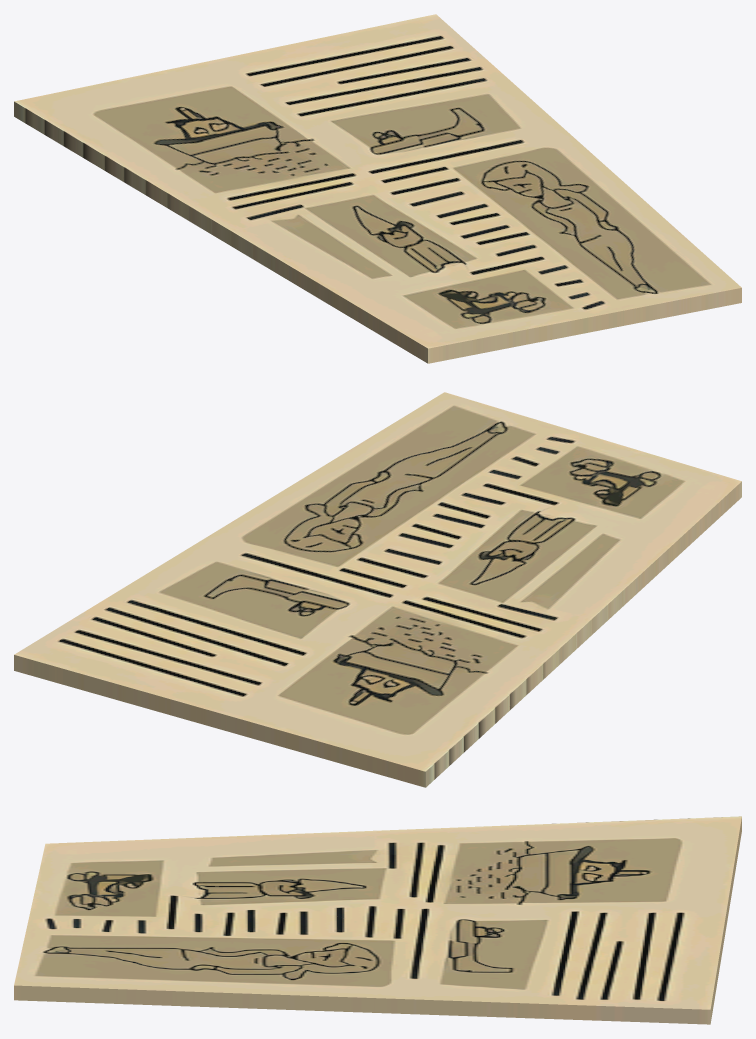
File: paperobj.glb
3 views of the same model, one above another, from view 1: azimuth 30°, elevation 25°; view 2: azimuth 150°, elevation 25°; view 3: azimuth 270°, elevation 25° (orthographic). The views are drawn at different scales.
Visible parts, largest first — view 1: paperobj; view 2: paperobj; view 3: paperobj.
Part boxes in pixels (x1=…): paperobj: x1=14, y1=14, x2=741, y2=363; paperobj: x1=14, y1=392, x2=741, y2=787; paperobj: x1=14, y1=816, x2=741, y2=1024.
Bounding box in the file's own units: 21 × 0.75 × 33.4.
1 material, 1 textured.
